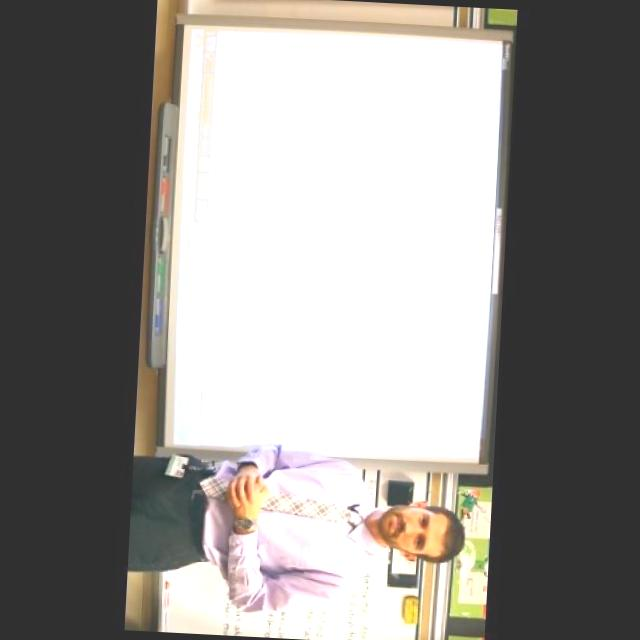Instructor: (139, 451, 468, 606)
White-board: (169, 23, 510, 472)
